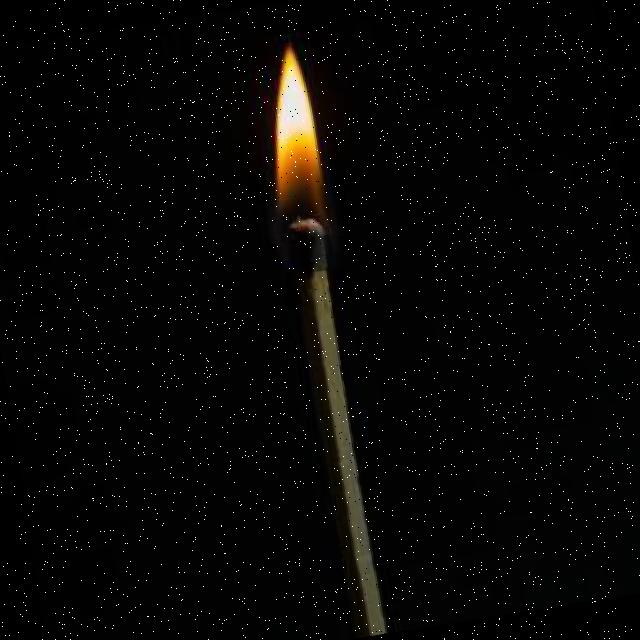fire: (209, 1, 372, 248)
